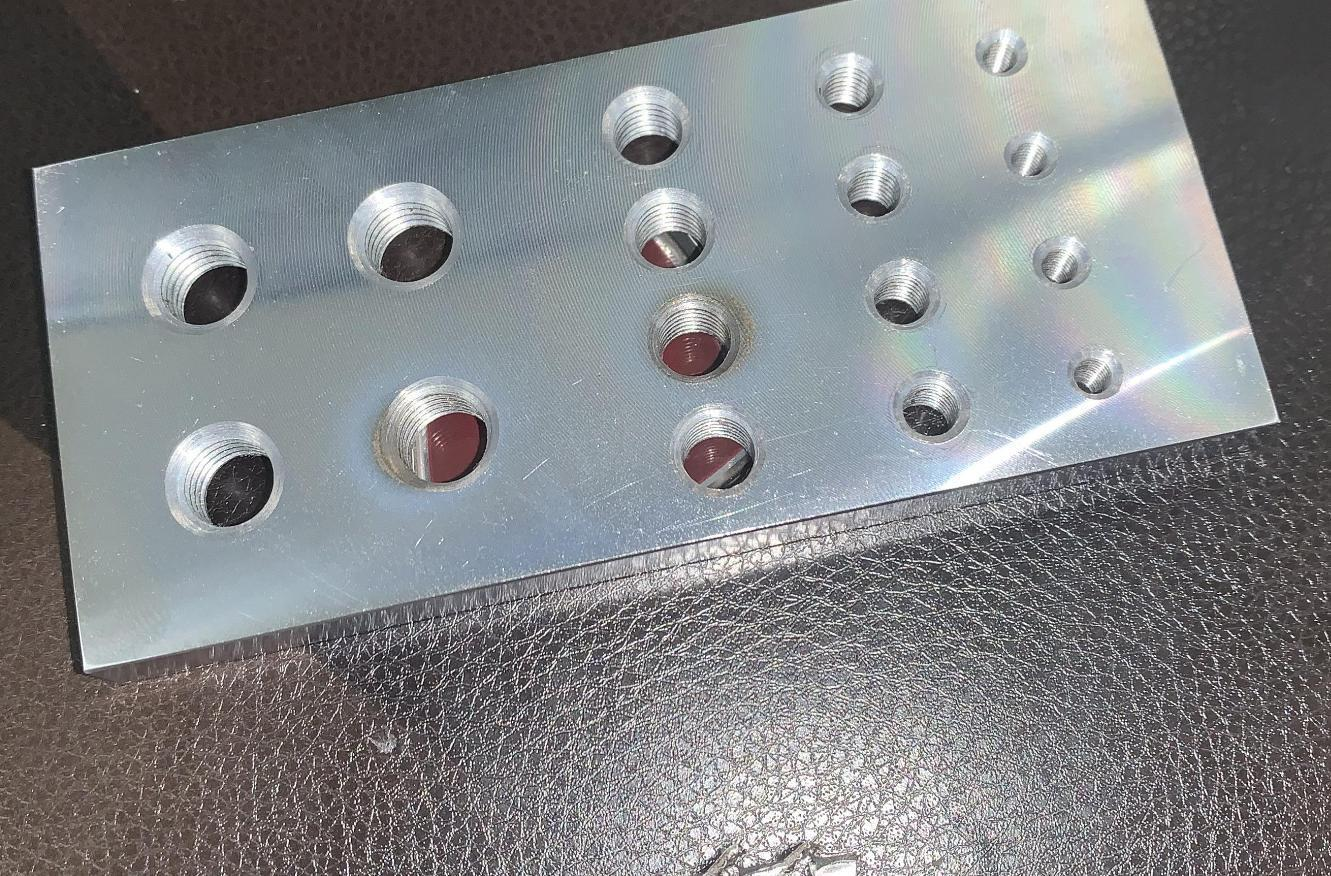hole: (352, 350, 522, 522), (322, 164, 476, 322), (121, 202, 271, 350), (154, 409, 290, 553), (625, 288, 761, 396), (586, 75, 706, 181), (614, 180, 726, 290), (662, 408, 784, 501), (878, 364, 980, 452), (803, 42, 905, 126), (858, 253, 952, 343), (826, 148, 924, 224), (1026, 221, 1096, 301), (1063, 338, 1135, 414), (992, 124, 1064, 198), (966, 21, 1034, 87)
